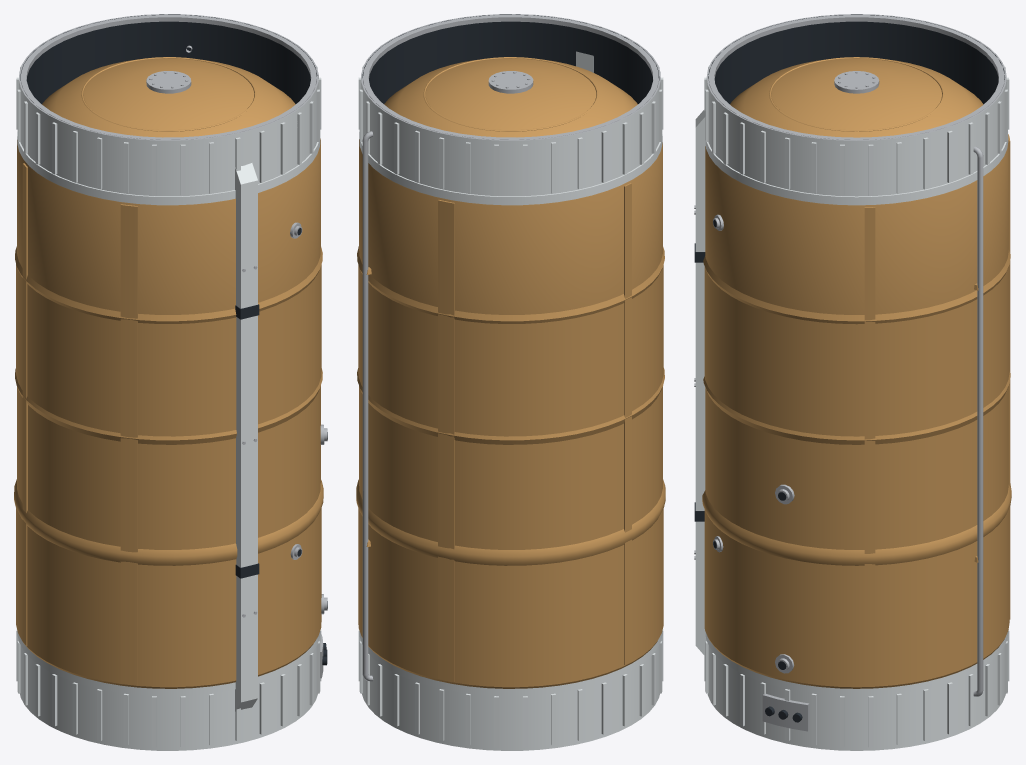
Rendered from tank_s2_s_hydrolox.fbx.
3 views of the same model, side by side, from view 1: azimuth 30°, elevation 25°; view 2: azimuth 150°, elevation 25°; view 3: azimuth 270°, elevation 25° (orthographic).
Visible parts, largest first — view 1: tank_s2_s_hydrolox_LOD0; view 2: tank_s2_s_hydrolox_LOD0; view 3: tank_s2_s_hydrolox_LOD0.
Part boxes in pixels (x1=…): tank_s2_s_hydrolox_LOD0: x1=14, y1=14, x2=327, y2=750; tank_s2_s_hydrolox_LOD0: x1=356, y1=14, x2=665, y2=750; tank_s2_s_hydrolox_LOD0: x1=694, y1=14, x2=1011, y2=750.
Size of what is drawn, in the model's own units: 3.82 by 8.3 by 3.91.
